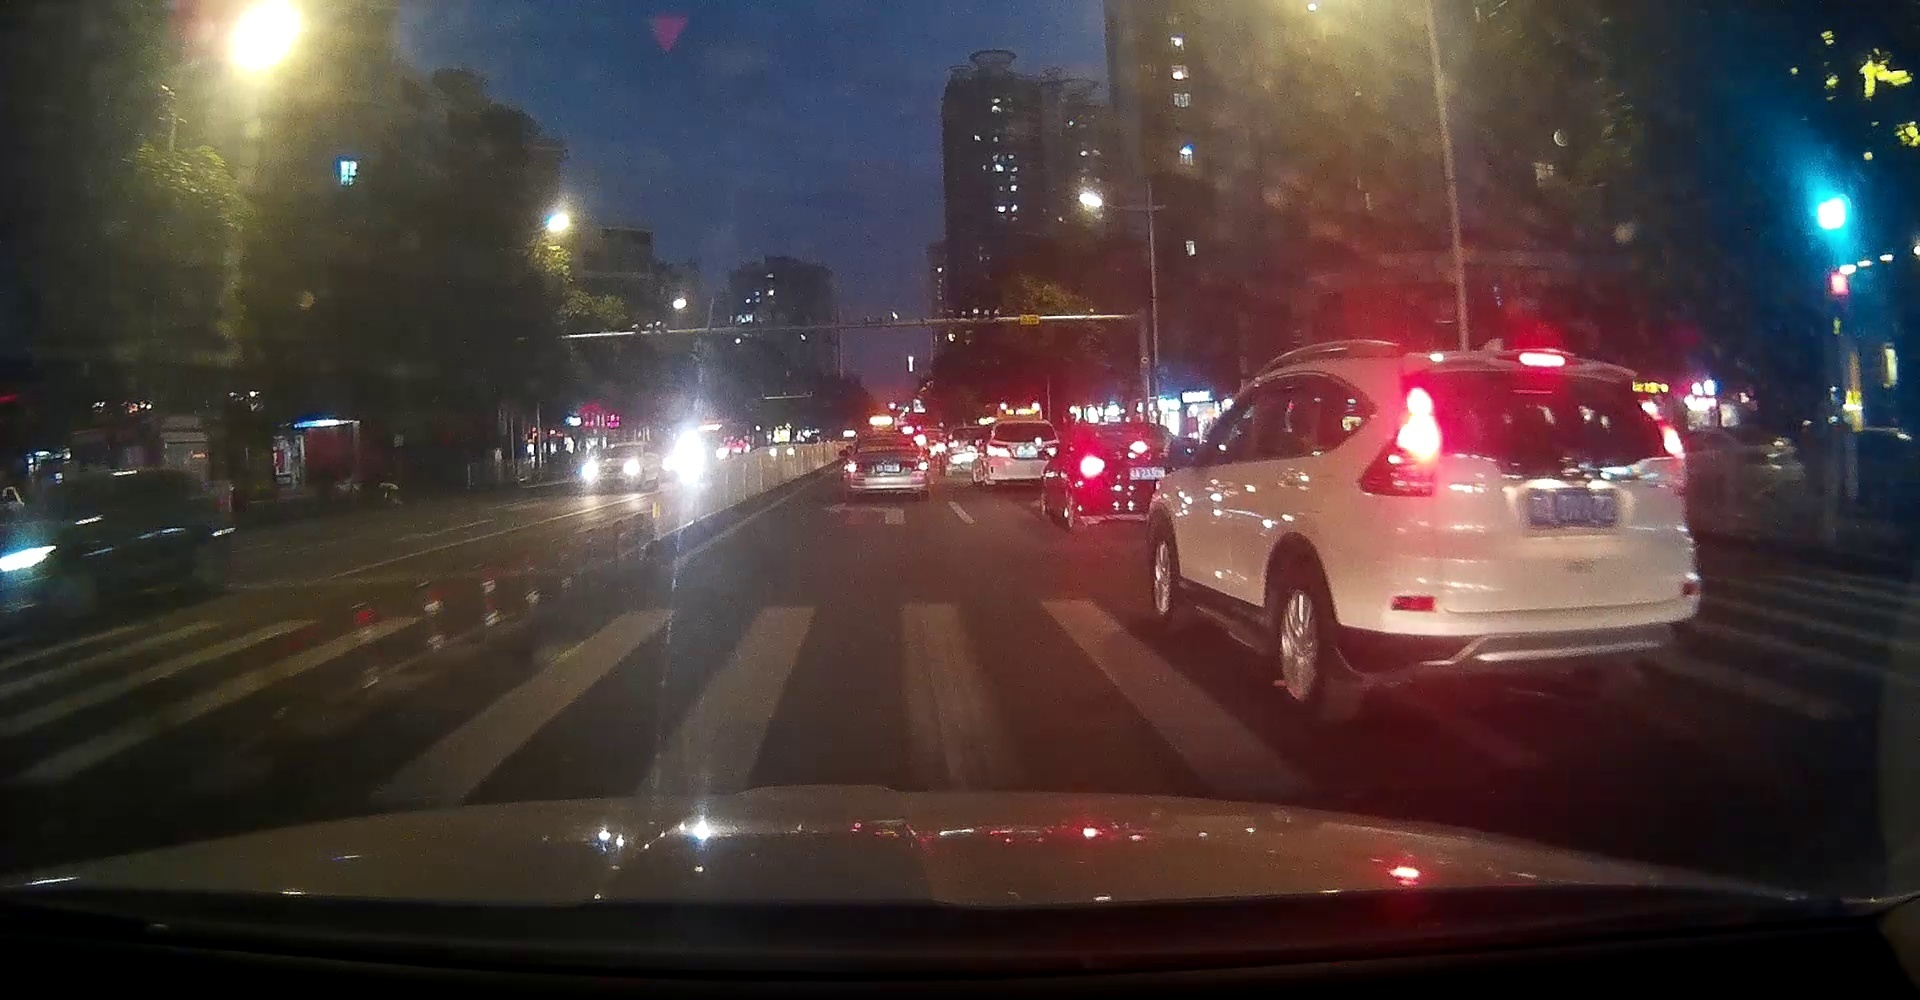L_light: (1354, 387, 1443, 497)
R_light: (1636, 398, 1686, 487)
T_light: (1517, 352, 1564, 367)
night-brake: (1337, 339, 1702, 723)
